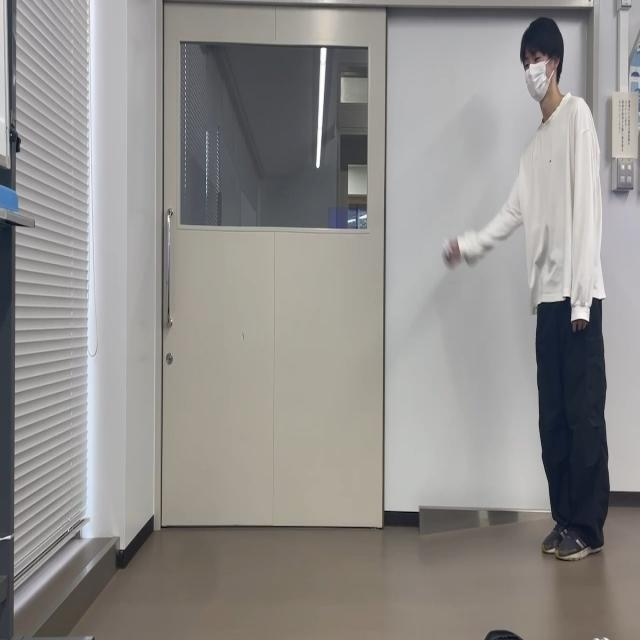paper: (442, 233, 460, 268)
